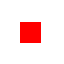square: (20, 22, 40, 42)
